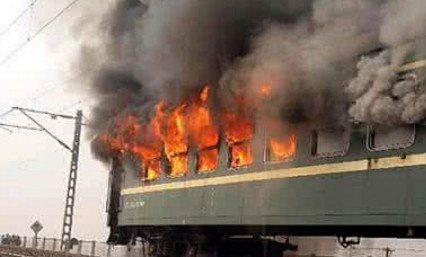fire: (96, 87, 300, 179)
